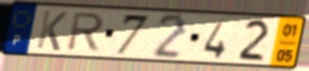2: (151, 12, 192, 61), (236, 18, 273, 65)
4: (201, 17, 231, 61)
7: (115, 13, 152, 56)
K: (34, 9, 70, 53)
R: (63, 11, 107, 54)
